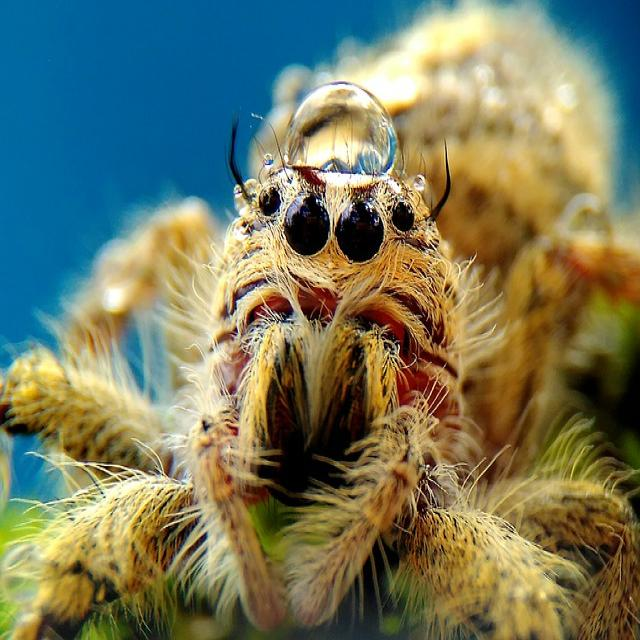spyder: (0, 10, 640, 640)
